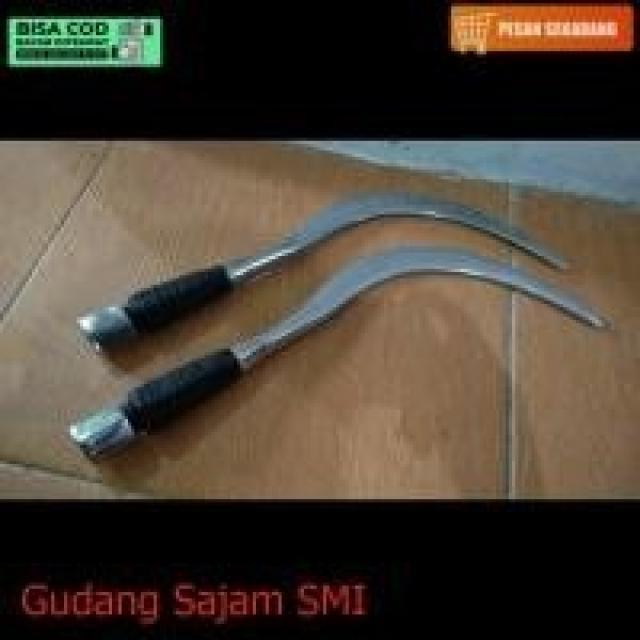machete: (74, 240, 611, 466), (74, 185, 573, 358)
